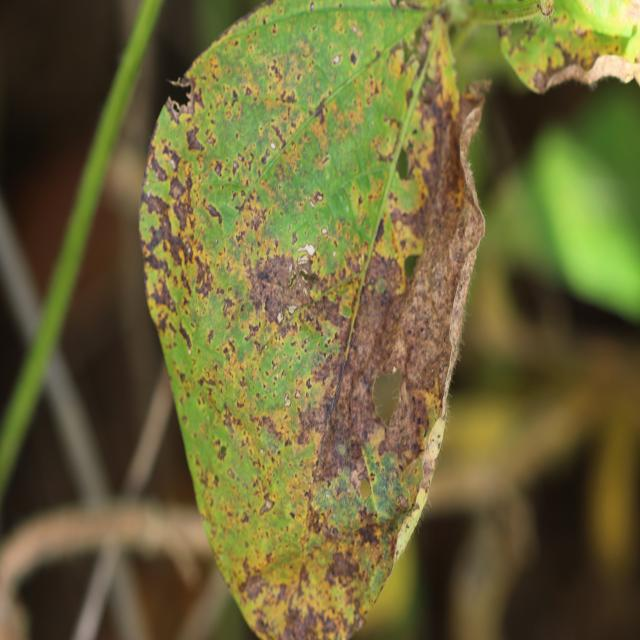Bacterial_Blight: (424, 129, 474, 263), (403, 280, 453, 406), (348, 356, 392, 456), (182, 237, 223, 302), (292, 394, 336, 454), (251, 252, 300, 302), (251, 403, 293, 447), (362, 253, 399, 298), (146, 267, 177, 314), (293, 600, 329, 640), (328, 547, 358, 582), (375, 127, 401, 165), (238, 203, 266, 237), (147, 147, 169, 181), (242, 573, 268, 601), (145, 190, 168, 217), (185, 126, 206, 153), (388, 47, 405, 80), (222, 409, 240, 438), (204, 201, 224, 227), (165, 96, 182, 123), (547, 46, 565, 70), (312, 101, 328, 125), (532, 68, 548, 91), (259, 493, 275, 515), (267, 62, 283, 83), (497, 22, 513, 43), (273, 127, 287, 150), (222, 340, 236, 362), (280, 89, 297, 104), (247, 321, 261, 338), (260, 147, 270, 165), (313, 190, 324, 205), (214, 161, 223, 177), (231, 89, 239, 104), (240, 511, 249, 524), (283, 393, 291, 407), (332, 54, 341, 65), (232, 160, 239, 174), (350, 51, 357, 65), (227, 468, 235, 479), (292, 231, 298, 244), (306, 378, 312, 390), (294, 389, 301, 399), (321, 226, 328, 235), (187, 245, 192, 255), (310, 1, 315, 11), (274, 373, 279, 381), (187, 347, 192, 355), (405, 523, 409, 530)
Soybean: (140, 2, 483, 638)
